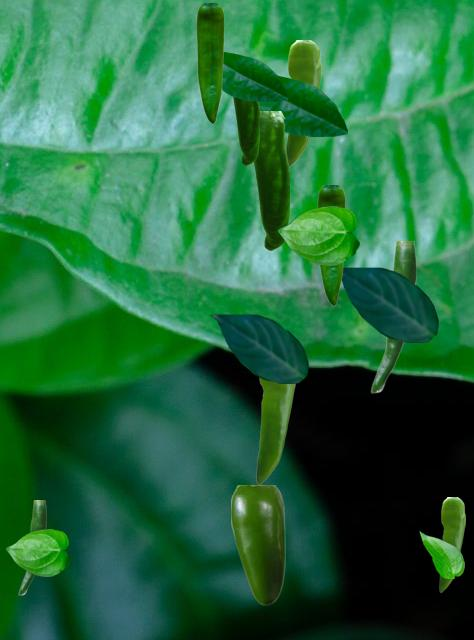green_chili: (370, 241, 415, 392), (231, 485, 284, 604), (253, 111, 288, 249), (286, 40, 320, 166), (256, 378, 294, 483), (196, 3, 223, 122), (317, 185, 344, 304), (18, 500, 45, 594), (439, 497, 464, 591), (232, 97, 258, 164)
